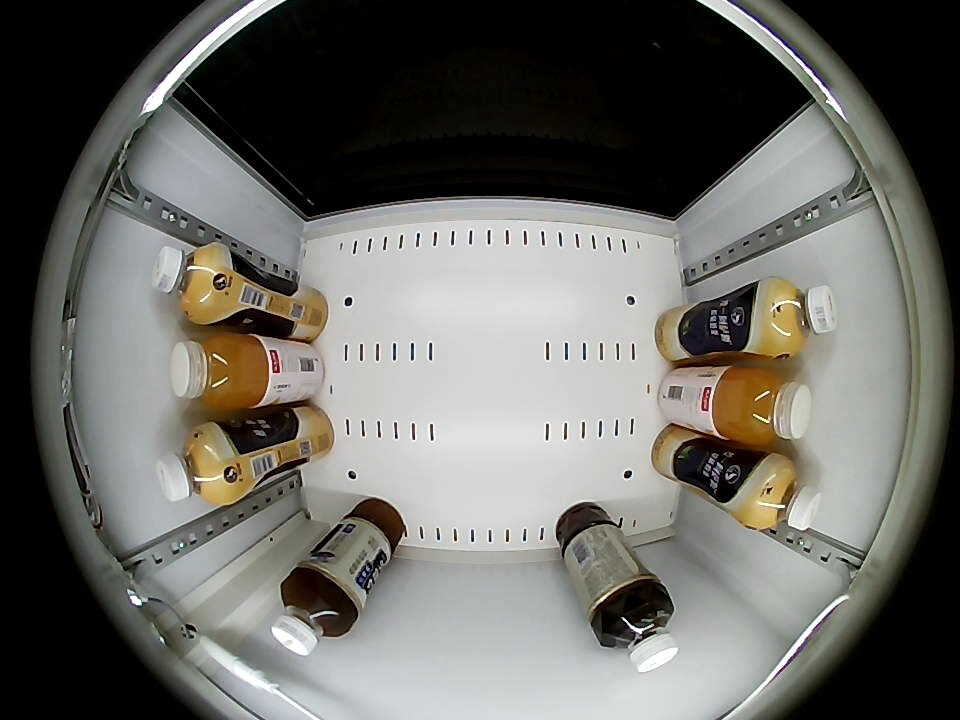asamu: (156, 425, 235, 504), (760, 279, 839, 357), (743, 457, 823, 533), (151, 243, 229, 320)
weic: (712, 366, 813, 445), (170, 333, 270, 410)
wulongcha: (271, 567, 358, 658), (596, 591, 679, 673)
